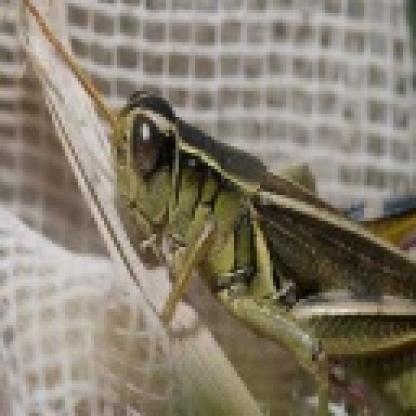grasshopper: (101, 84, 416, 406)
